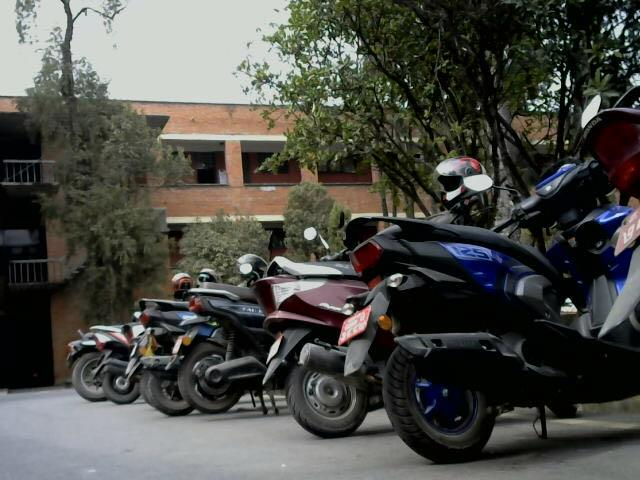Building: (133, 73, 314, 226)
Motorcycle: (336, 84, 639, 460), (247, 225, 364, 445), (169, 222, 268, 427), (137, 274, 183, 416), (91, 305, 133, 407), (62, 315, 100, 406)
Road: (0, 396, 427, 480)
Tree: (14, 2, 171, 286), (284, 2, 557, 121)
